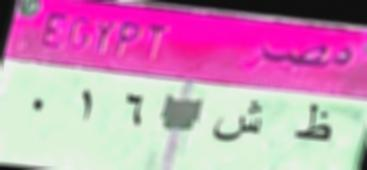0: (22, 92, 58, 125)
1: (72, 88, 102, 125)
6: (118, 88, 154, 130)
Thaa: (288, 100, 338, 149)
sheen: (212, 98, 266, 146)
